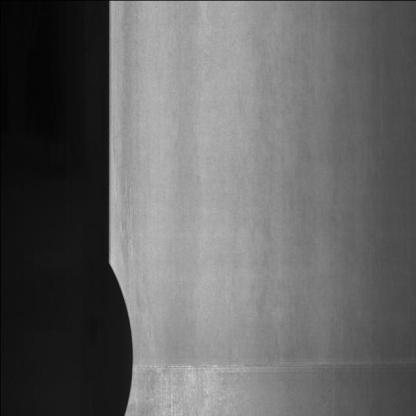crescent_gap: (101, 252, 143, 416)
